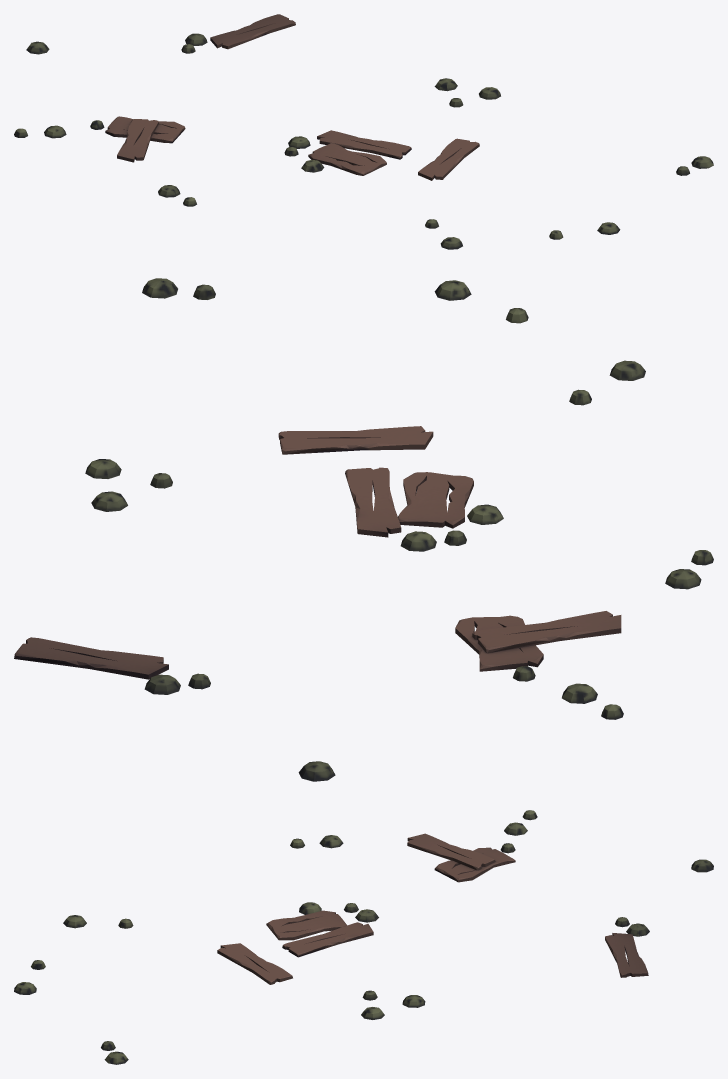
Rendered from Wood_01.FBX.
3 views of the same model, one above another, from view 1: azimuth 30°, elevation 25°; view 2: azimuth 150°, elevation 25°; view 3: azimuth 270°, elevation 25° (orthographic). The views are drawn at different scales.
Visible parts, largest first — view 1: Wood_01; view 2: Wood_01; view 3: Wood_01.
Part boxes in pixels (x1=…): Wood_01: x1=14, y1=14, x2=713, y2=249; Wood_01: x1=14, y1=278, x2=713, y2=781; Wood_01: x1=14, y1=810, x2=713, y2=1064.
Size of the model in its own units: 16.83 by 0.2061 by 19.83.
